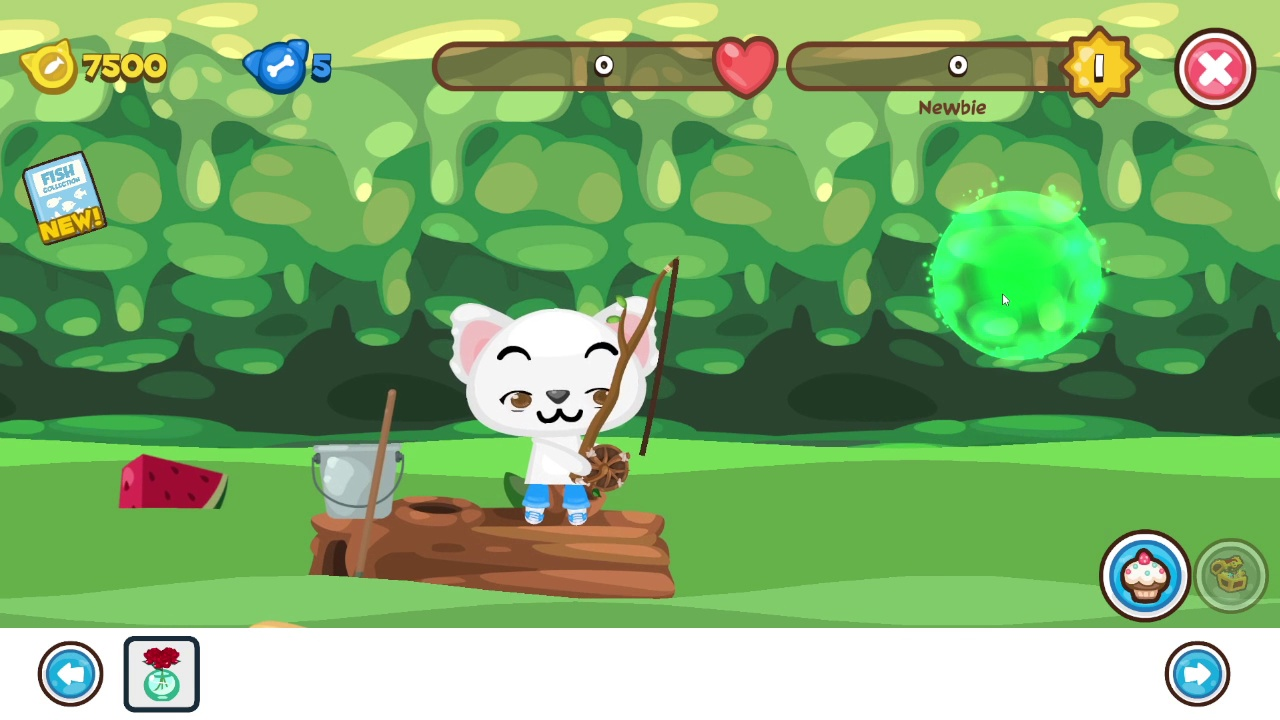point: (931, 192, 1107, 363)
